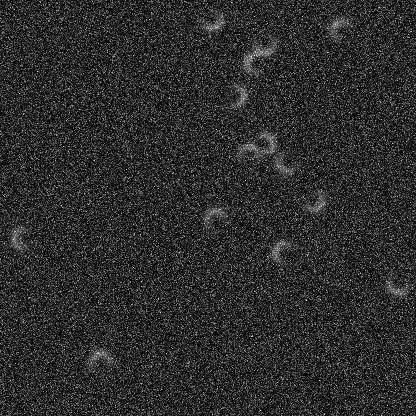Janus: (7, 223, 37, 253), (383, 268, 413, 298), (297, 185, 327, 215), (249, 28, 279, 58), (195, 3, 225, 33), (233, 140, 263, 170), (240, 47, 270, 77), (85, 347, 115, 377), (219, 80, 249, 110), (326, 15, 356, 45), (272, 146, 302, 176), (200, 204, 230, 234), (268, 237, 298, 267), (248, 129, 278, 159)
